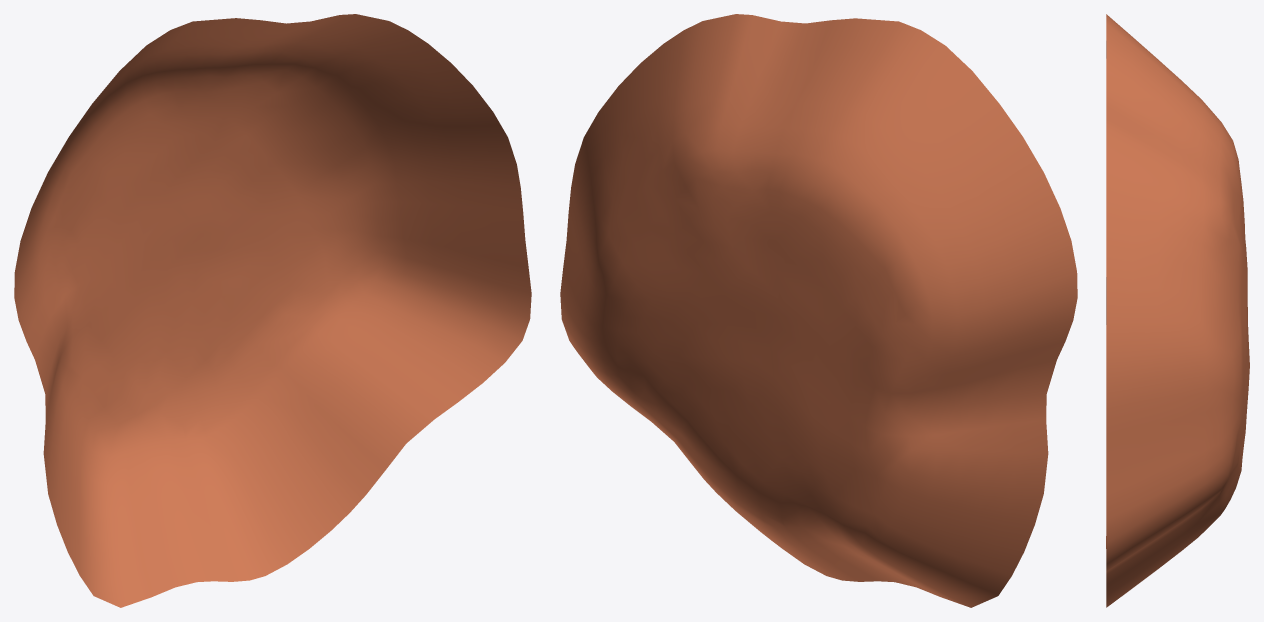
File: Island-Low003.fbx
3 renders of one model, left to right at view 1: azimuth 30°, elevation 25°; view 2: azimuth 150°, elevation 25°; view 3: azimuth 270°, elevation 25°, orthographic. The views are drawn at different scales.
Visible parts, largest first — view 1: Island-Low003; view 2: Island-Low003; view 3: Island-Low003.
Boxes of the visible parts, bbox=[...] form: Island-Low003: bbox=[14, 14, 531, 607]; Island-Low003: bbox=[560, 14, 1077, 607]; Island-Low003: bbox=[1106, 14, 1249, 607].
Size of the model in its own units: 1595 by 1688 by 403.
